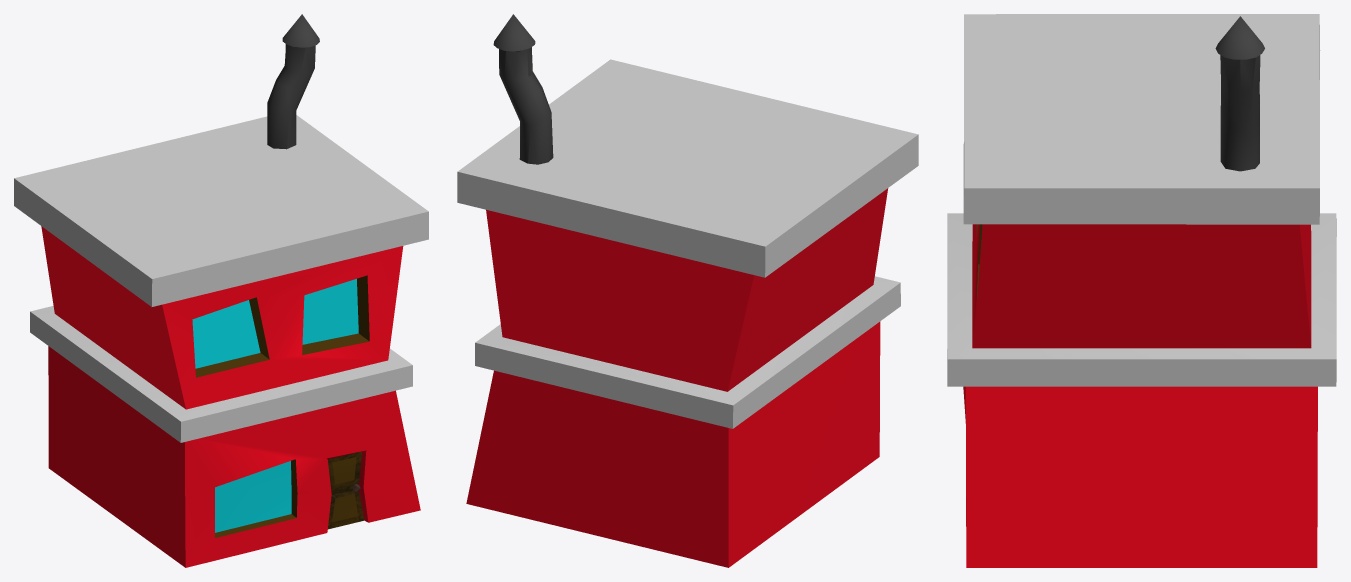
Rendered from PredioPequeno-VermelhoLOD1.fbx.
The picture shows the model from 3 angles, left to right: view 1: azimuth 30°, elevation 25°; view 2: azimuth 150°, elevation 25°; view 3: azimuth 270°, elevation 25°; orthographic projection. The views are drawn at different scales.
Visible parts, largest first — view 1: Predio2AndaresLOD1; view 2: Predio2AndaresLOD1; view 3: Predio2AndaresLOD1.
Part boxes in pixels (x1,y1,x2,y2): Predio2AndaresLOD1: (14,14,428,567); Predio2AndaresLOD1: (457,14,918,567); Predio2AndaresLOD1: (947,14,1336,567).
Size of the model in its own units: 712 by 1035 by 672.
